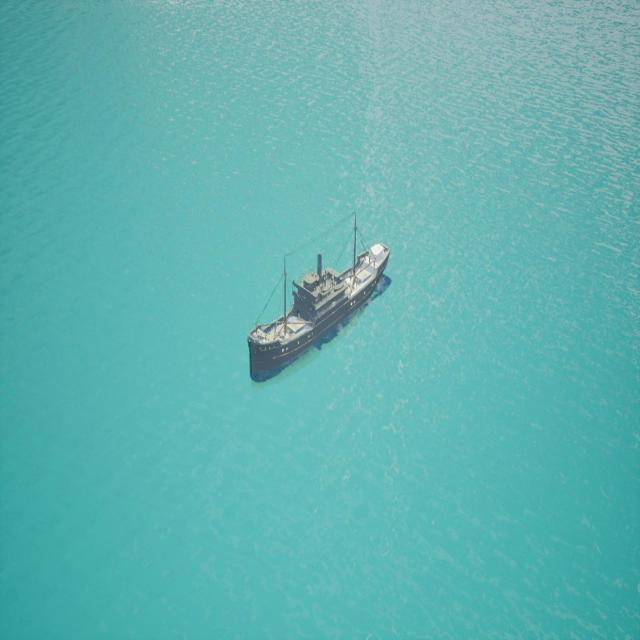fishing ship: (247, 243, 393, 385)
